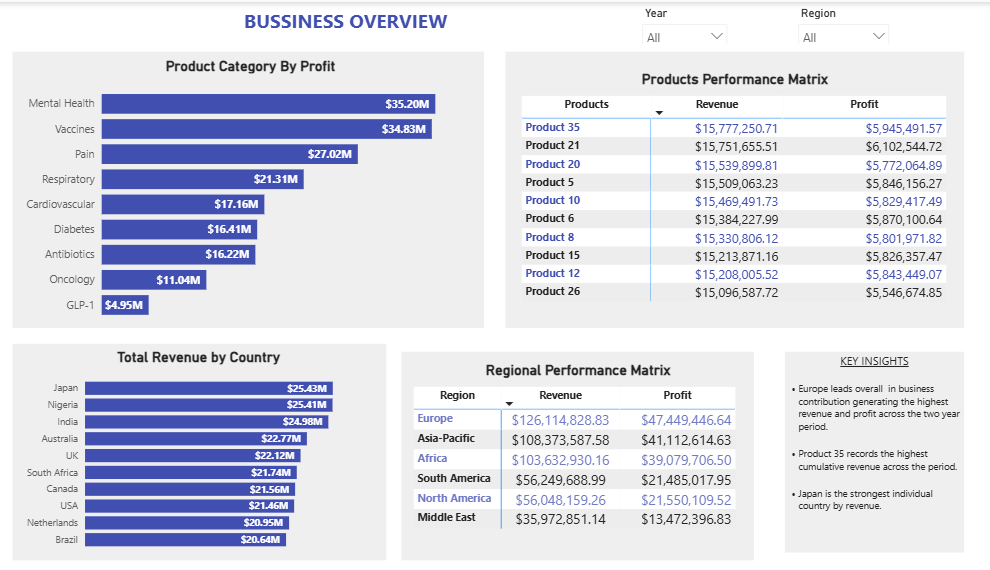

The dashboard page shown, as its layout file describes it:
{"tool":"powerbi","page":{"name":"Bussiness Overview","canvas":[1280,720],"ordinal":0},"visuals":[{"type":"barChart","title":"Product Category By  Profit","fields":{"Y":["_Measures.Total Profit"],"Category":["Dim_Product.Category"]},"box":[51,69.9,589.6,342],"z":0},{"type":"barChart","fields":{"Category":["Dim_Region.Country"],"Y":["_Measures.Total Revenue"]},"box":[51,436.5,459.2,262.7],"z":1000},{"type":"pivotTable","title":"Regional Performance Matrix","fields":{"Rows":["Dim_Region.Region"],"Values":["_Measures.Total Revenue","_Measures.Total Profit"]},"box":[546.1,453.5,425.2,245.7],"z":2000},{"type":"pivotTable","title":"Products Performance Matrix","fields":{"Rows":["Dim_Product.ProductName"],"Values":["_Measures.Total Revenue","_Measures.Total Profit"]},"box":[682.2,86.9,548,325],"z":3000},{"type":"textbox","box":[213.5,1.9,504.6,51],"z":4000},{"type":"textbox","box":[1012.9,436.5,238.1,262.7],"z":5000},{"type":"slicer","fields":{"Values":["Dim_Date.Year"]},"box":[829.6,0,126.6,52.9],"z":6000},{"type":"slicer","fields":{"Values":["Dim_Region.Region"]},"box":[1026.1,0,134.2,52.9],"z":7000}]}

Visuals, with their boxes in screenshot pixels (x1, y1, x2, y2), scaled from the page's 1280x720 canvas onto the 990x570 screenshot:
"Product Category By  Profit" barChart: [x1=39, y1=55, x2=495, y2=326]
barChart - Dim_Region.Country x _Measures.Total Revenue: [x1=39, y1=346, x2=395, y2=554]
"Regional Performance Matrix" pivotTable: [x1=422, y1=359, x2=751, y2=554]
"Products Performance Matrix" pivotTable: [x1=528, y1=69, x2=951, y2=326]
textbox: [x1=165, y1=2, x2=555, y2=42]
textbox: [x1=783, y1=346, x2=968, y2=554]
slicer - Dim_Date.Year: [x1=642, y1=0, x2=740, y2=42]
slicer - Dim_Region.Region: [x1=794, y1=0, x2=897, y2=42]
